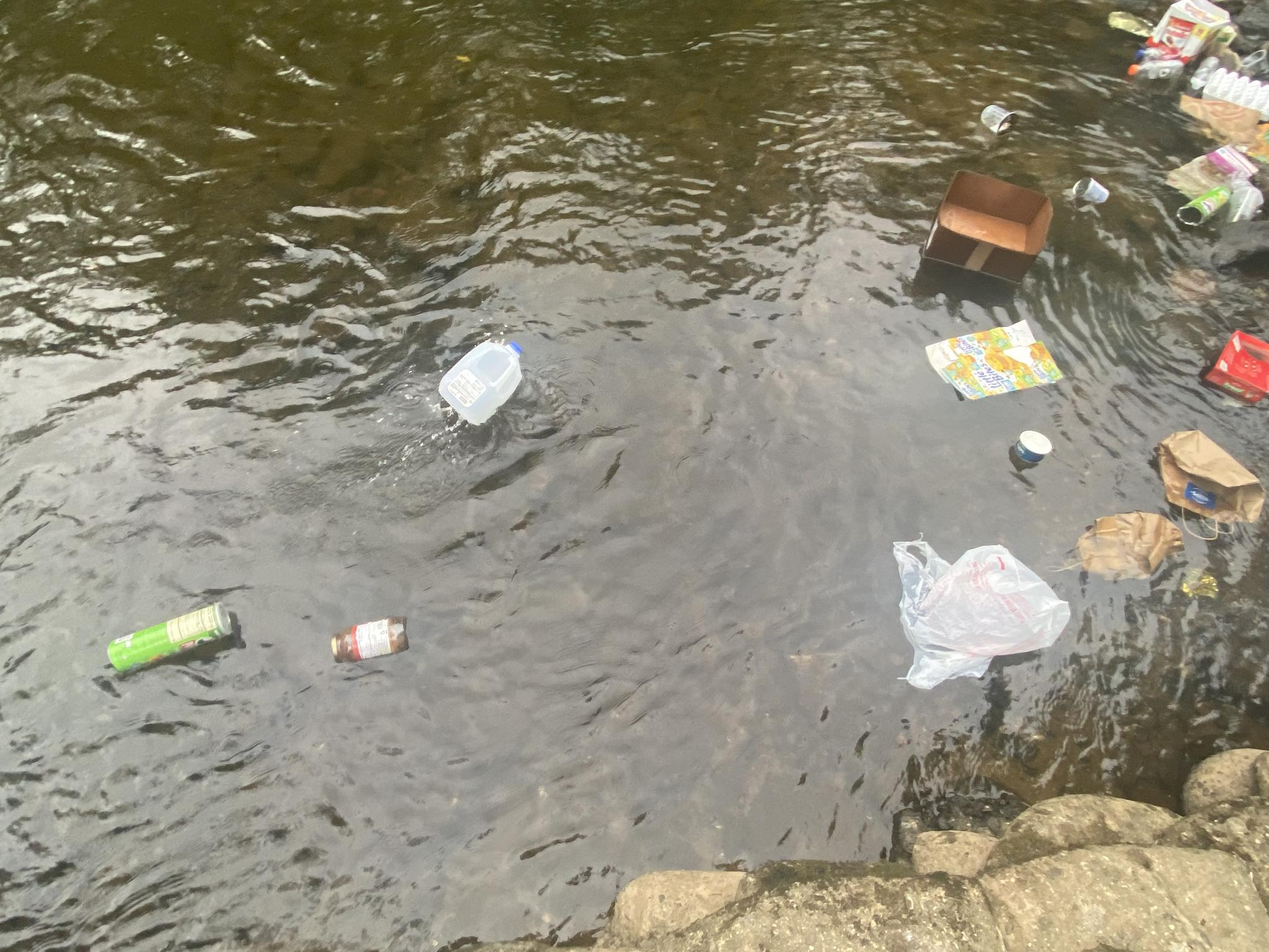cardboard: (210, 664, 352, 788), (204, 545, 351, 638), (0, 532, 82, 631), (5, 746, 114, 815), (37, 883, 129, 952), (0, 784, 41, 830)
glass: (855, 283, 944, 342)
metal: (1021, 266, 1176, 360), (32, 720, 98, 774), (109, 913, 163, 945), (157, 744, 198, 779)
paper: (0, 400, 122, 529), (74, 365, 221, 452), (5, 803, 95, 862), (207, 480, 265, 534)
plastic: (189, 257, 383, 425), (735, 515, 835, 625), (0, 830, 66, 889), (4, 722, 44, 773), (79, 867, 145, 895), (248, 815, 292, 851), (48, 852, 82, 898), (0, 866, 33, 904), (90, 890, 136, 907)
